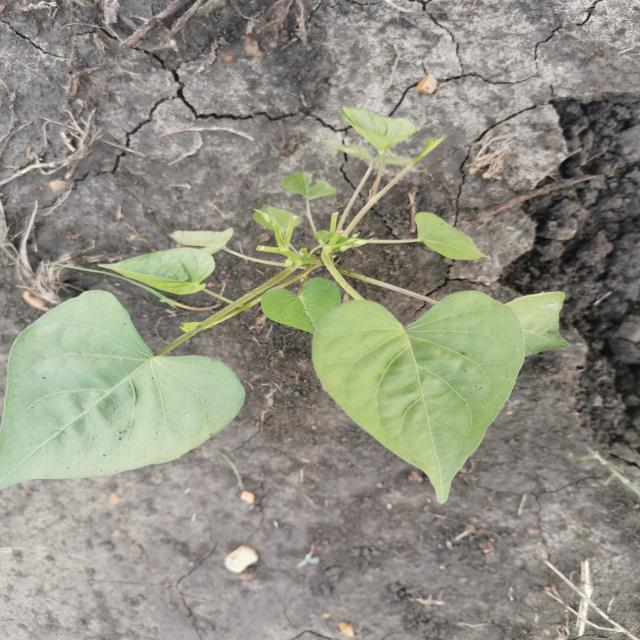MorningGlory: (7, 103, 576, 507)
